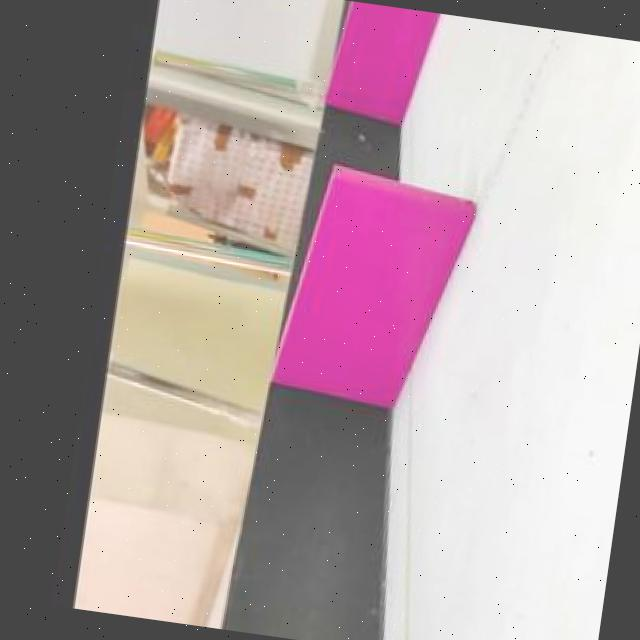xparking: (270, 164, 479, 407), (322, 1, 440, 123)
